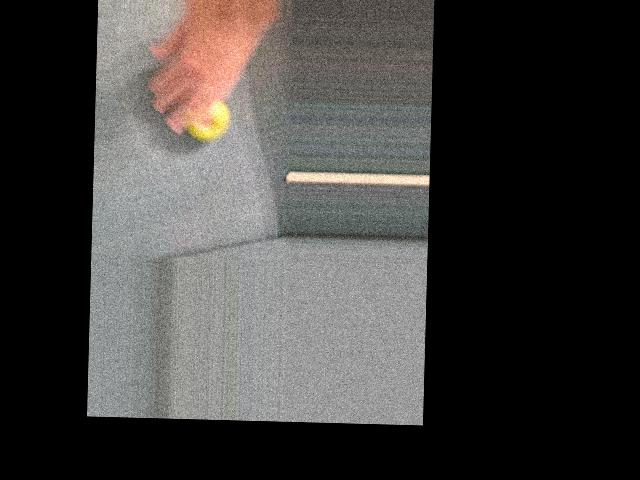apple: (177, 61, 243, 150)
